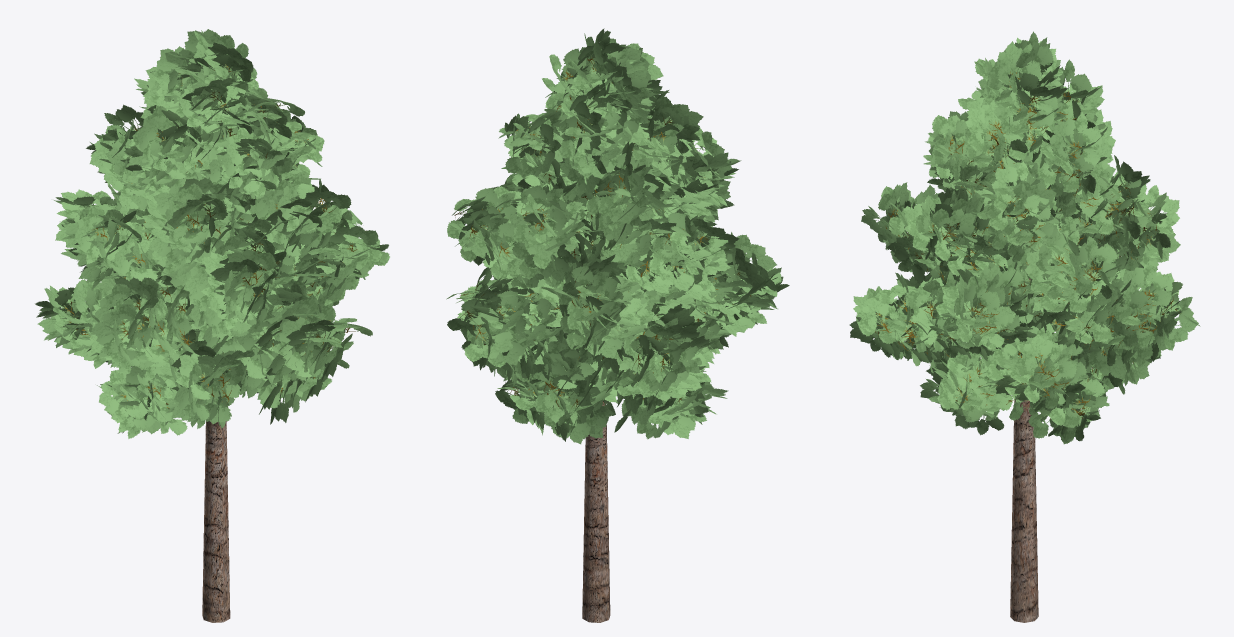
The model's file is Tree 2.fbx.
The picture shows the model from 3 angles, left to right: view 1: azimuth 30°, elevation 25°; view 2: azimuth 150°, elevation 25°; view 3: azimuth 270°, elevation 25°; orthographic projection.
Parts seen in each view (by area): view 1: Tree; view 2: Tree; view 3: Tree.
Boxes of the visible parts, x1,y1,x2,y2 form: Tree: (35, 29, 389, 622); Tree: (446, 28, 789, 622); Tree: (849, 31, 1200, 622).
Size of the model in its own units: 1149 by 2032 by 1220.
